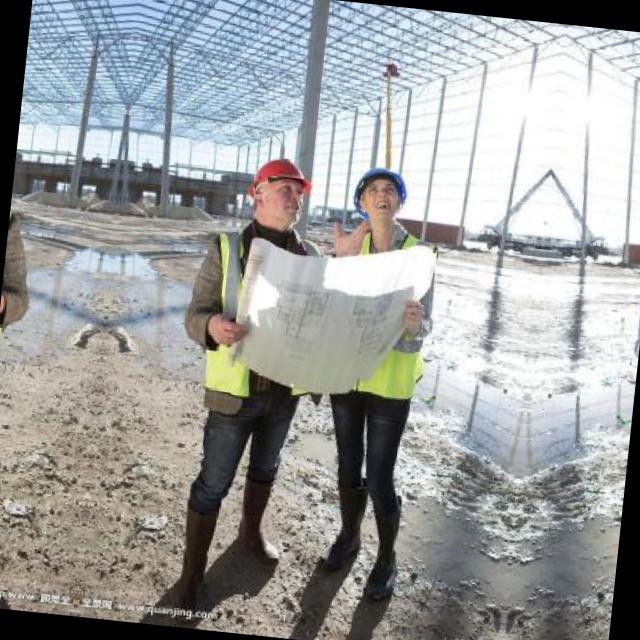helmet: (338, 138, 418, 248), (235, 140, 321, 240)
